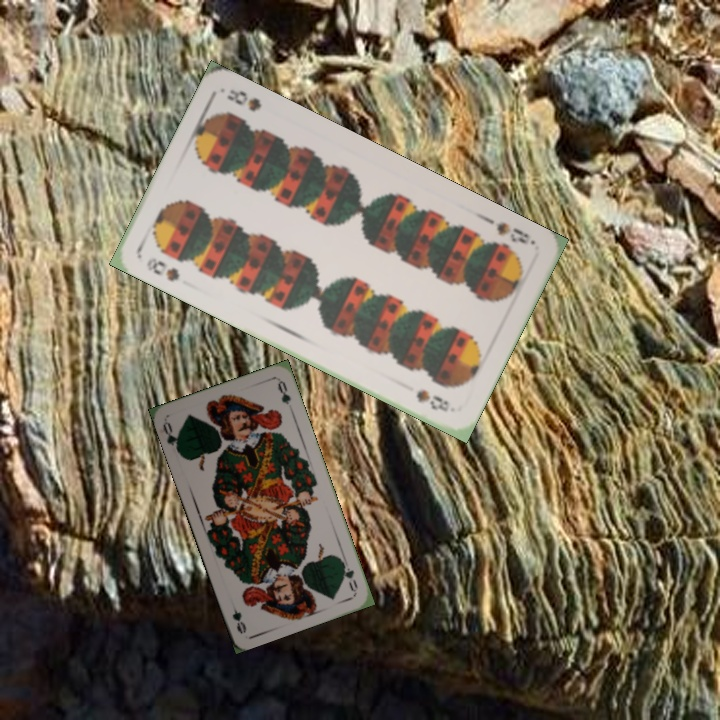GO: (159, 418, 183, 457), (337, 556, 361, 595)
S8: (492, 218, 538, 248), (142, 253, 182, 285)
